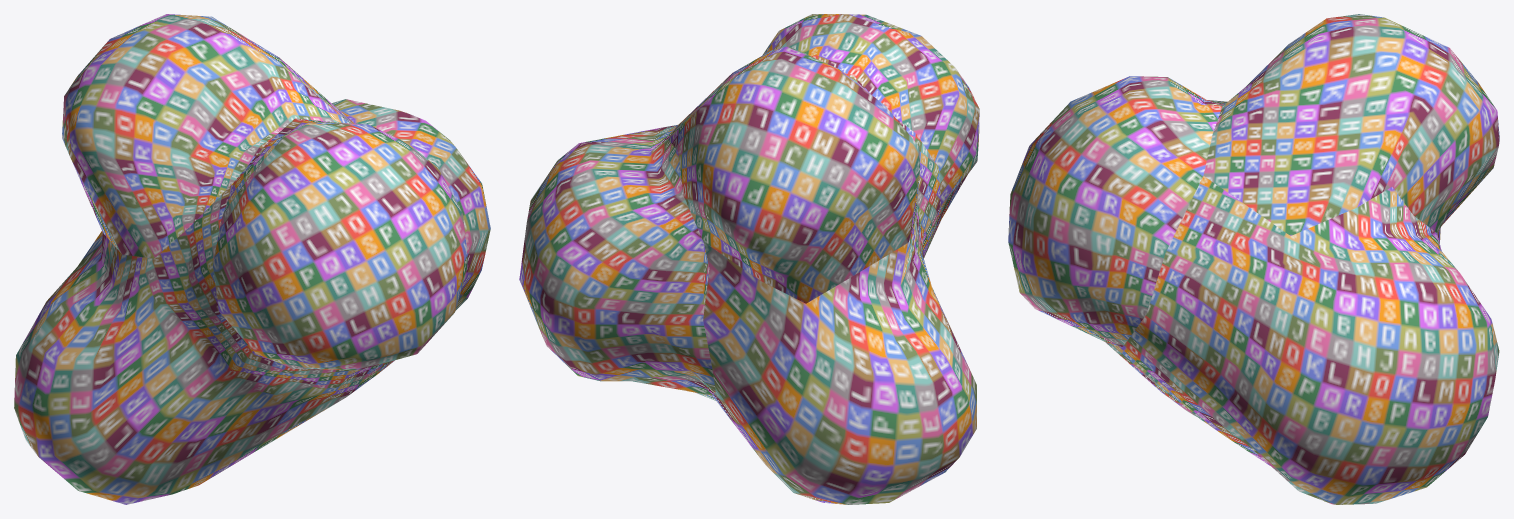
File: Cloud.obj
3 renders of one model, left to right at view 1: azimuth 30°, elevation 25°; view 2: azimuth 150°, elevation 25°; view 3: azimuth 270°, elevation 25°, orthographic. The views are drawn at different scales.
Visible parts, largest first — view 1: sphere4_default; view 2: sphere4_default; view 3: sphere4_default.
Boxes of the visible parts, bbox=[...] form: sphere4_default: bbox=[14, 14, 490, 504]; sphere4_default: bbox=[519, 14, 979, 504]; sphere4_default: bbox=[1008, 14, 1499, 504].
Bounding box in the file's own units: 5.15 × 4.92 × 4.75.
Materials: 1 (1 with a texture image).
